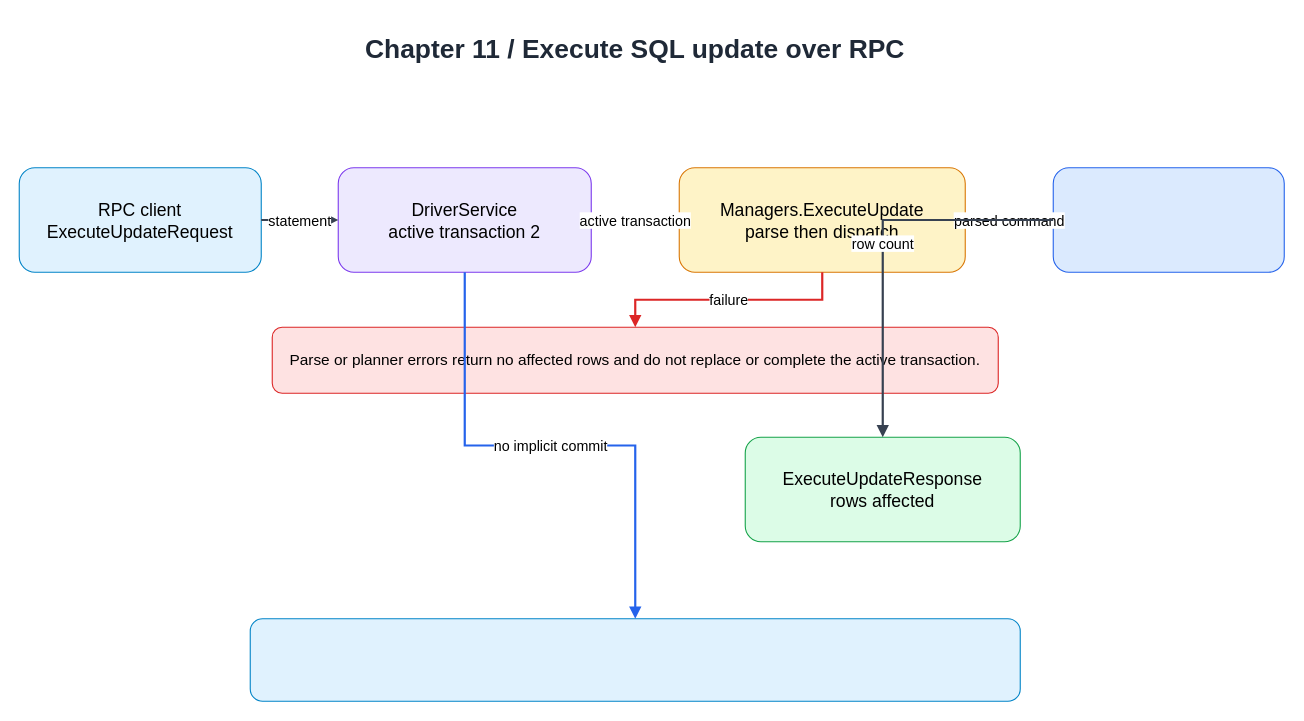
Some shapes in this 1304 by 721 pixel diagram are drawn without their labels. Here are the shapes that lost their labels. From the top down, the centre of each, then its label:
At (1168,219): "UpdatePlanner executes with transaction 2".
At (634,659): "Same session transaction stays active caller chooses Commit, Rollback, or Close".
